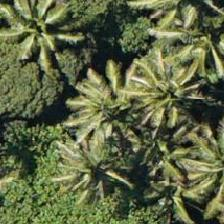coconut_tree: (111, 39, 201, 129), (85, 69, 175, 159), (152, 110, 223, 200), (0, 0, 81, 74)
